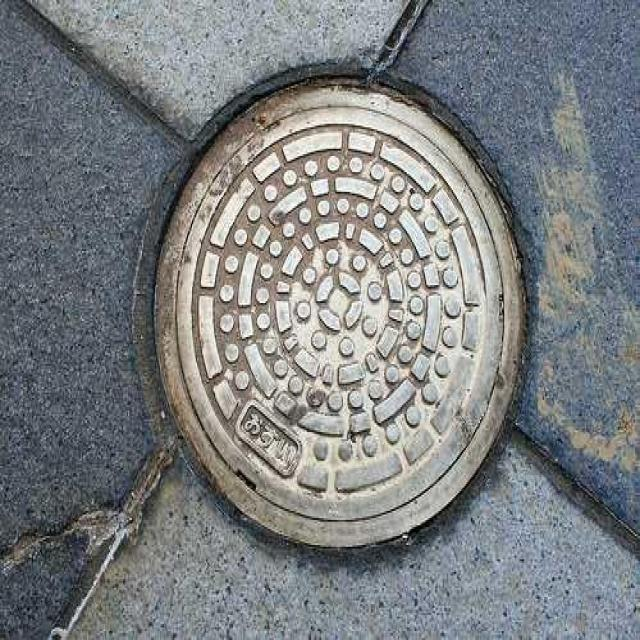manhole: (158, 79, 525, 546)
